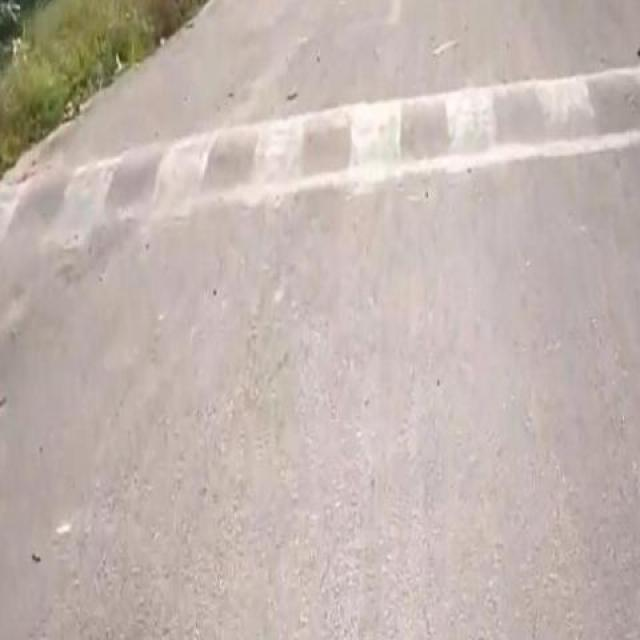Speed Bump: (0, 56, 639, 244)
